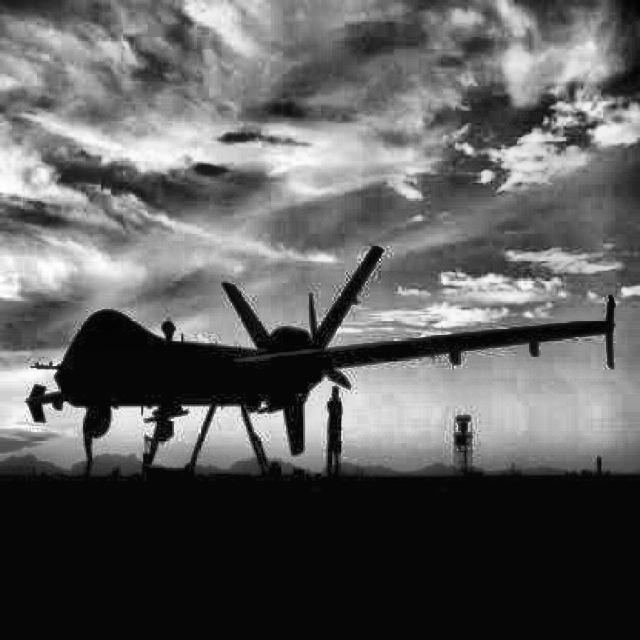MQ9: (24, 244, 616, 491)
